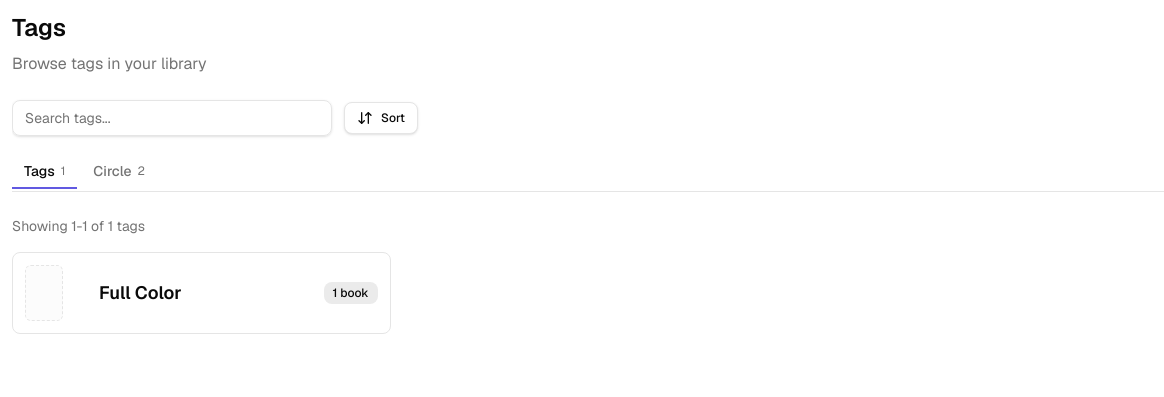
Test: TagsList tag namespaces › lists a namespace's tags without the prefix and keeps the tab in the URL
Click the tab "Circle 2".
click(119, 172)  # box [81,155,157,189]
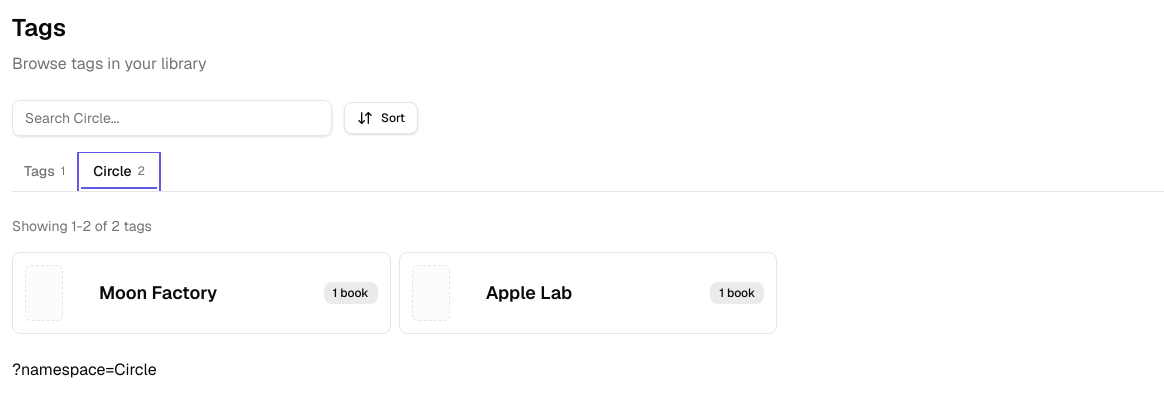
Expected: the text "Moon Factory" is shown, [99,281,217,304]
Expected: the text "Apple Lab" is shown, [486,281,572,304]
Expected: the link "Full Color" is gone
